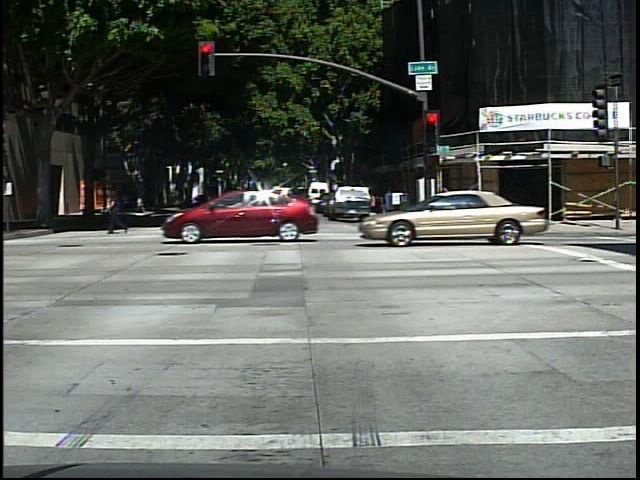person: (100, 184, 130, 236)
